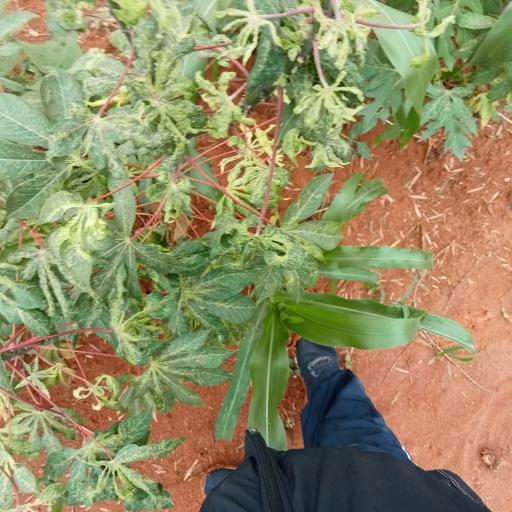Cassava_Mosaic: (42, 420, 172, 509), (27, 104, 148, 199), (122, 331, 234, 413), (30, 192, 104, 304), (150, 269, 250, 350), (134, 71, 200, 138)
